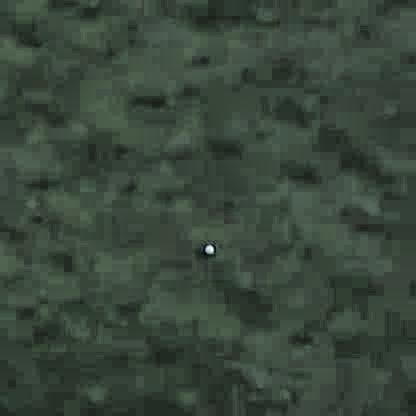golfball: (200, 241, 213, 254)
